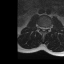CCS_normal: (42, 24, 44, 33)
LFS_normal: (46, 24, 48, 30)
LLS_normal: (44, 25, 46, 31)
RFS_normal: (39, 24, 41, 30)
RLS_normal: (41, 25, 42, 31)
